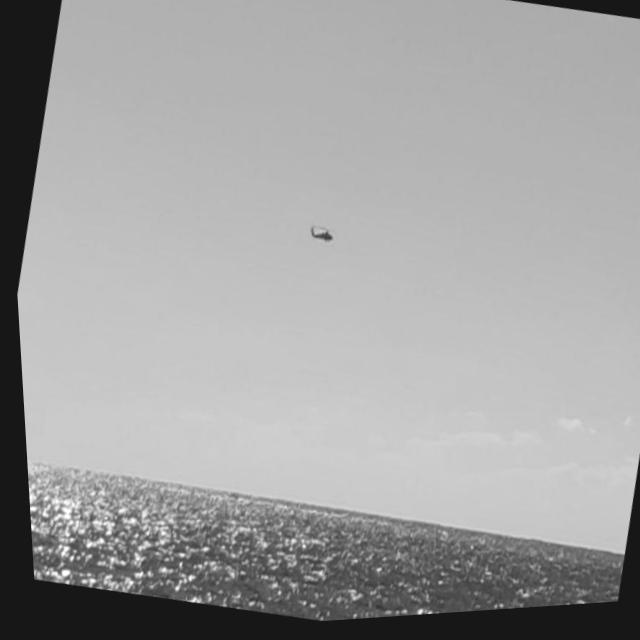helikopter: (265, 191, 357, 288)
